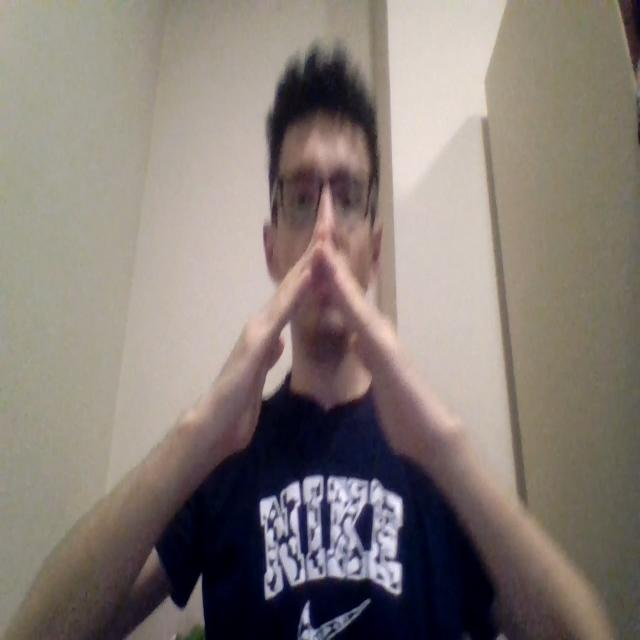house: (192, 237, 441, 470)
